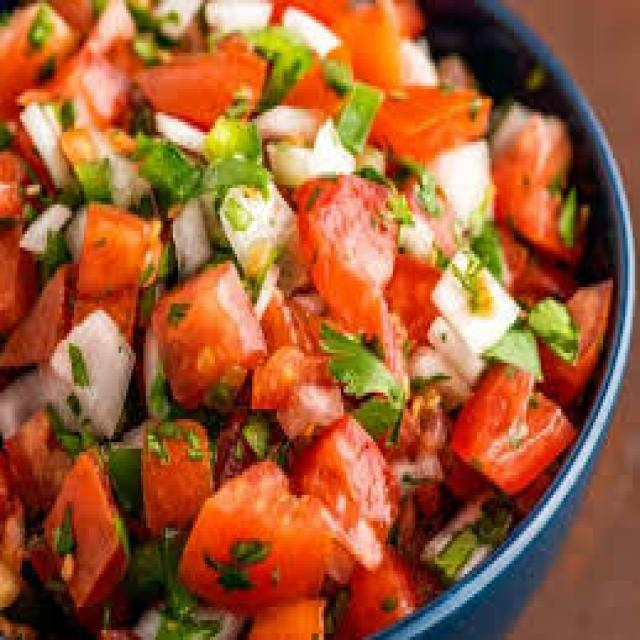organic waste: (0, 0, 610, 636), (175, 452, 334, 604), (484, 92, 591, 268), (287, 399, 395, 561), (391, 128, 502, 284), (294, 172, 400, 333), (148, 254, 267, 396), (452, 356, 566, 498), (37, 439, 129, 600), (12, 0, 141, 106), (366, 76, 494, 175), (44, 304, 136, 436), (126, 50, 267, 136), (318, 313, 412, 439), (526, 280, 613, 400), (64, 194, 168, 294), (428, 238, 522, 346), (331, 534, 428, 637), (210, 360, 294, 475), (0, 402, 79, 524), (244, 337, 344, 432), (52, 40, 153, 132), (141, 416, 217, 531), (0, 0, 76, 115), (420, 485, 504, 587), (213, 175, 294, 280), (0, 257, 77, 363), (210, 17, 282, 122), (262, 109, 356, 185), (195, 152, 267, 250), (59, 112, 141, 198), (0, 363, 84, 445), (499, 224, 578, 307), (380, 251, 444, 346), (18, 96, 82, 191), (336, 3, 398, 92), (25, 528, 84, 620), (131, 138, 205, 208), (124, 518, 180, 610), (126, 594, 245, 637), (250, 23, 314, 102), (257, 280, 329, 350), (400, 337, 477, 402), (425, 307, 487, 386), (62, 280, 143, 340), (133, 314, 173, 422), (242, 587, 324, 637), (166, 185, 210, 277), (0, 221, 35, 330), (0, 439, 22, 610), (270, 0, 364, 40), (531, 290, 581, 360), (0, 145, 44, 224), (156, 570, 208, 636), (280, 0, 344, 53), (102, 422, 138, 515), (334, 69, 381, 139), (74, 584, 134, 637), (203, 0, 269, 46), (19, 194, 72, 250), (76, 0, 136, 49), (10, 122, 54, 188), (203, 109, 257, 162), (153, 102, 210, 152), (492, 324, 541, 379), (467, 211, 502, 281), (353, 135, 393, 188), (148, 0, 210, 33), (44, 399, 82, 452), (200, 544, 250, 584), (430, 46, 479, 86), (134, 274, 166, 333), (0, 600, 47, 637), (40, 0, 92, 33), (123, 0, 168, 36), (232, 406, 267, 452), (160, 13, 202, 50), (376, 0, 422, 33), (316, 53, 351, 92), (124, 26, 158, 59), (322, 36, 354, 70), (225, 538, 262, 561), (153, 228, 173, 270), (54, 498, 72, 544), (64, 336, 89, 369), (146, 369, 168, 406), (180, 422, 200, 452), (64, 386, 82, 416), (148, 422, 163, 452), (79, 416, 96, 436), (156, 419, 180, 432)
